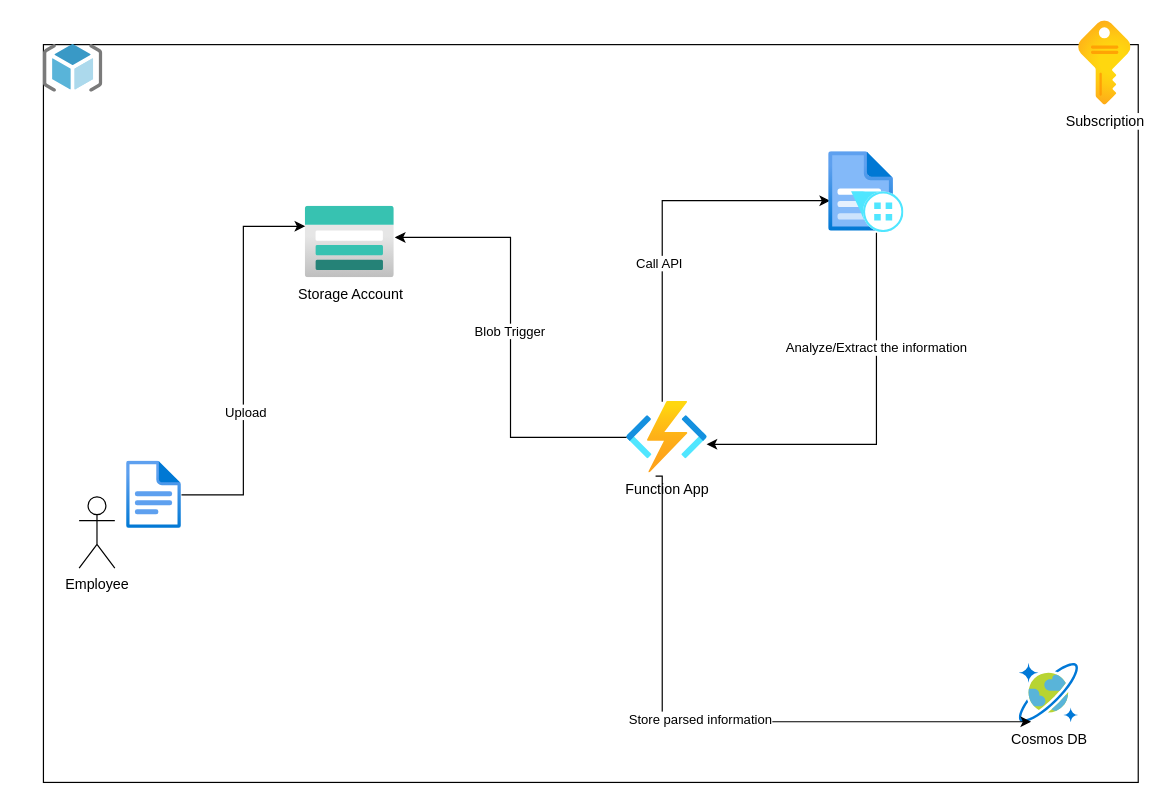
The diagram is 1165 pixels wide and 803 high, and some of its shapes have lost their labels. The centre of each missing label's shape, as x and y in pixels:
"Document Intelligence" belongs at [865,191].
"PDF Layouts" belongs at [153,494].
"Resource Group" belongs at [72,68].
